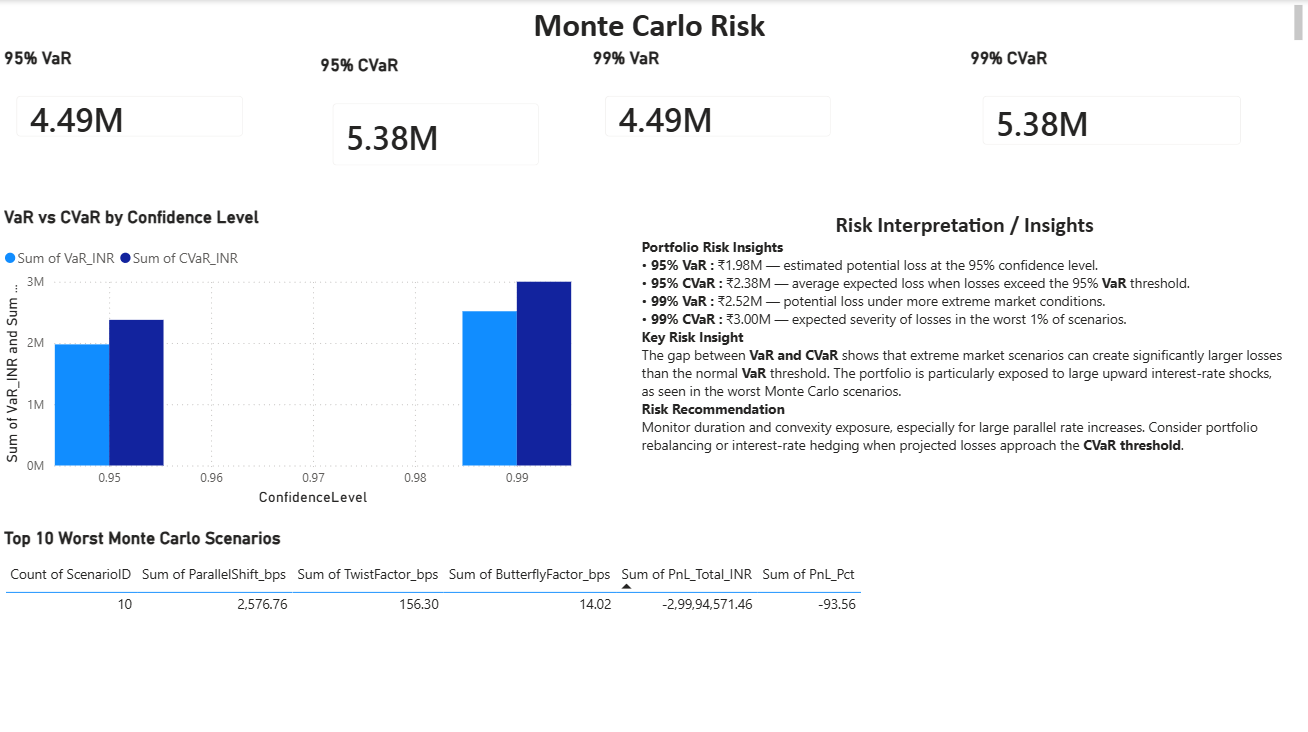

This screenshot's page, from the dashboard's own definition file:
{"tool":"powerbi","page":{"name":"Monte Carlo Risk","canvas":[1280,720],"ordinal":2},"visuals":[{"type":"textbox","box":[0,0,1280.3,46.5],"z":0},{"type":"clusteredColumnChart","title":"VaR vs CVaR by Confidence Level","fields":{"Category":["var_cvar_results.ConfidenceLevel"],"Y":["Sum(var_cvar_results.VaR_INR)","Sum(var_cvar_results.CVaR_INR)"]},"box":[0,201.8,564.9,297.1],"z":1000},{"type":"cardVisual","title":"95% VaR","fields":{"Data":["Sum(var_cvar_results.VaR_INR)"]},"box":[0,46.5,256.8,105.2],"z":2000},{"type":"cardVisual","title":"99% VaR","fields":{"Data":["Sum(var_cvar_results.VaR_INR)"]},"box":[576,46.5,255.6,105.2],"z":3000},{"type":"cardVisual","title":"95% CVaR","fields":{"Data":["Sum(var_cvar_results.CVaR_INR)"]},"box":[309.4,53.8,236,126],"z":4000},{"type":"cardVisual","title":"99% CVaR","fields":{"Data":["Sum(var_cvar_results.CVaR_INR)"]},"box":[945.2,46.5,287.4,112.5],"z":5000},{"type":"tableEx","title":"Top 10 Worst Monte Carlo Scenarios","fields":{"Values":["CountNonNull(worst_monte_carlo_scenarios.ScenarioID)","Sum(worst_monte_carlo_scenarios.ParallelShift_bps)","Sum(worst_monte_carlo_scenarios.TwistFactor_bps)","Sum(worst_monte_carlo_scenarios.ButterflyFactor_bps)","Sum(worst_monte_carlo_scenarios.PnL_Total_INR)","Sum(worst_monte_carlo_scenarios.PnL_Pct)"]},"box":[0,516,1280.3,204.2],"z":6000},{"type":"textbox","box":[623.6,201.8,642,297.1],"z":7000}]}

Visuals, with their boxes in screenshot pixels (x1, y1, x2, y2), scaled from the page's 1280x720 canvas onto the 1308x732 screenshot:
textbox: [0,0,1307,47]
"VaR vs CVaR by Confidence Level" clusteredColumnChart: [0,205,577,507]
"95% VaR" cardVisual: [0,47,262,154]
"99% VaR" cardVisual: [589,47,850,154]
"95% CVaR" cardVisual: [316,55,557,183]
"99% CVaR" cardVisual: [966,47,1260,162]
"Top 10 Worst Monte Carlo Scenarios" tableEx: [0,525,1307,731]
textbox: [637,205,1293,507]
